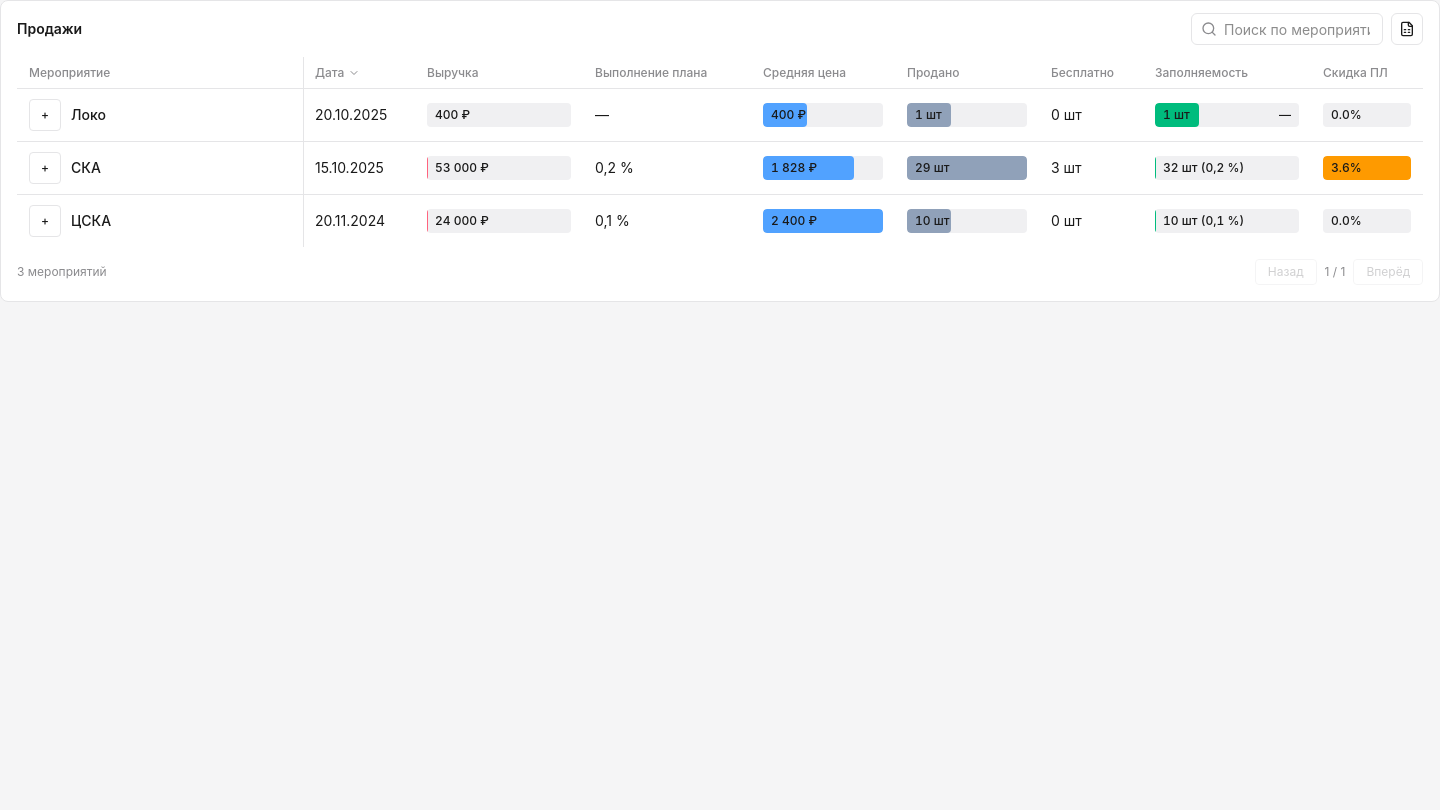
Test case: MatchSalesTable integration (E2E stand-in) › scenario 5: two matches expand independently; collapse match hides children
Click the button "+" in the row of "15.10.2025". click: {"x": 45, "y": 168}
box: 29,152 -> 61,184
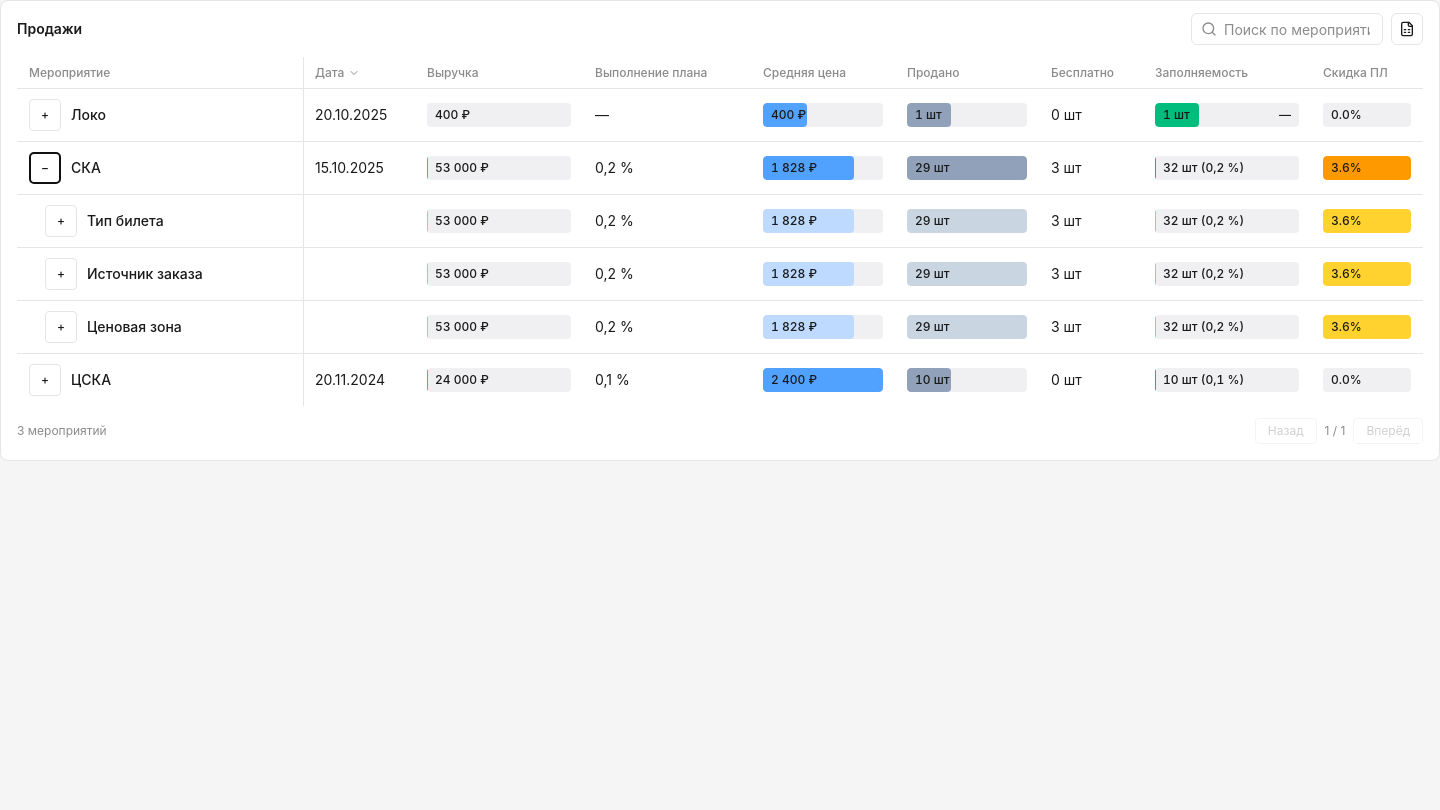
Click the button "+" next to "ЦСКА". click: {"x": 45, "y": 380}
box: 29,364 -> 61,396
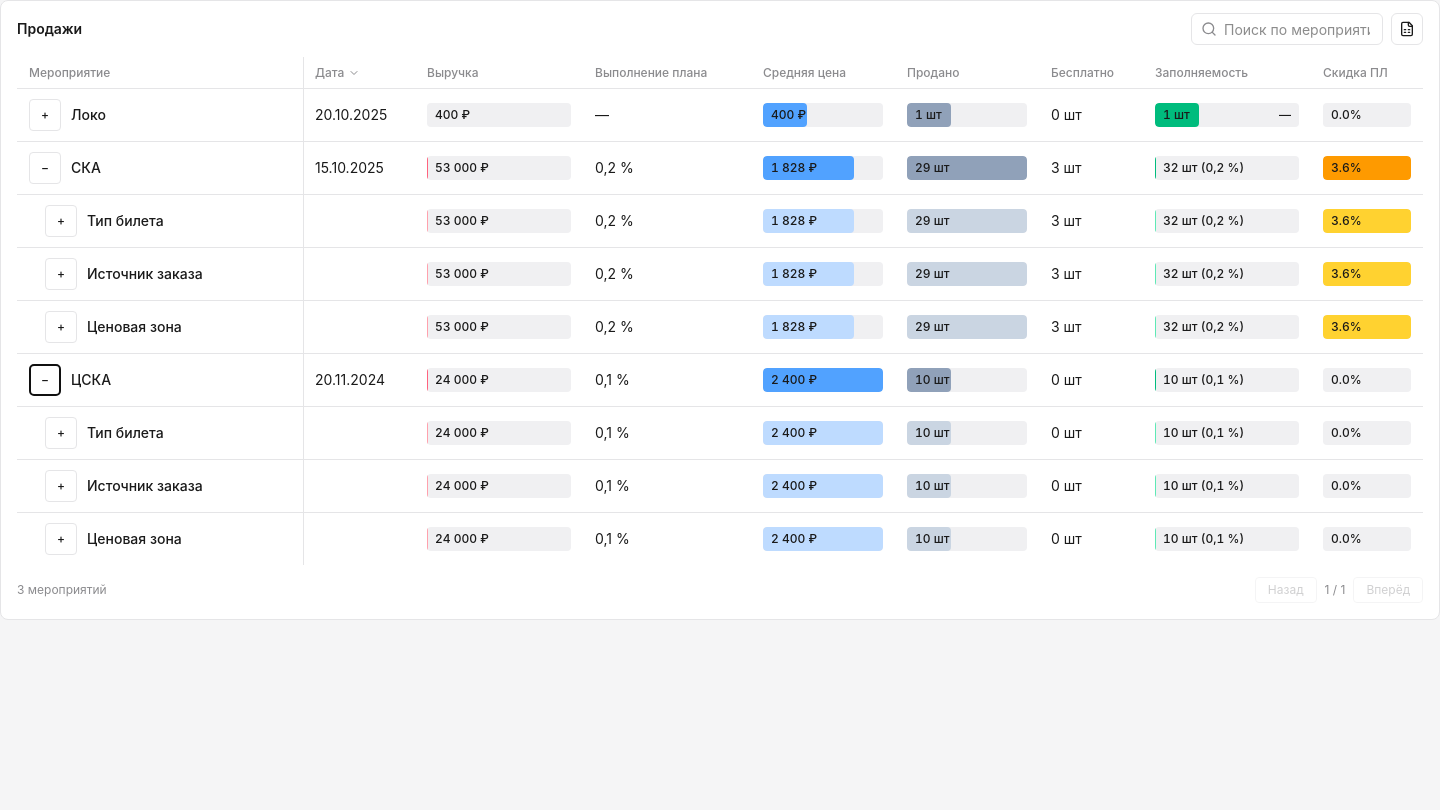
Now the text "Тип билета" is shown 2 times, box 87,211 -> 164,231; 87,423 -> 164,443
Click the button "−" in the row of "15.10.2025". click: {"x": 45, "y": 168}
box: 29,152 -> 61,184
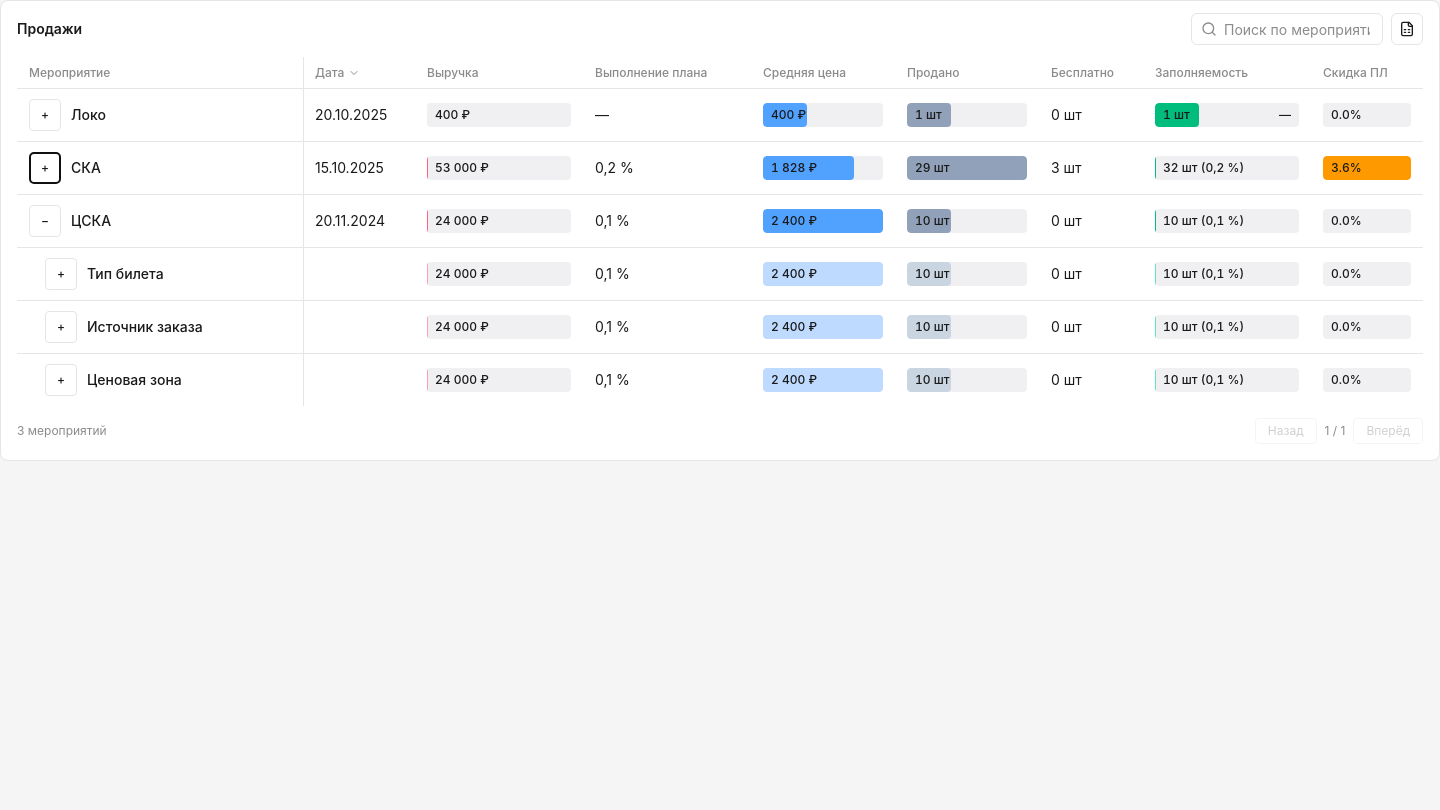
Now the text "Тип билета" is shown once, box 87,264 -> 164,284
